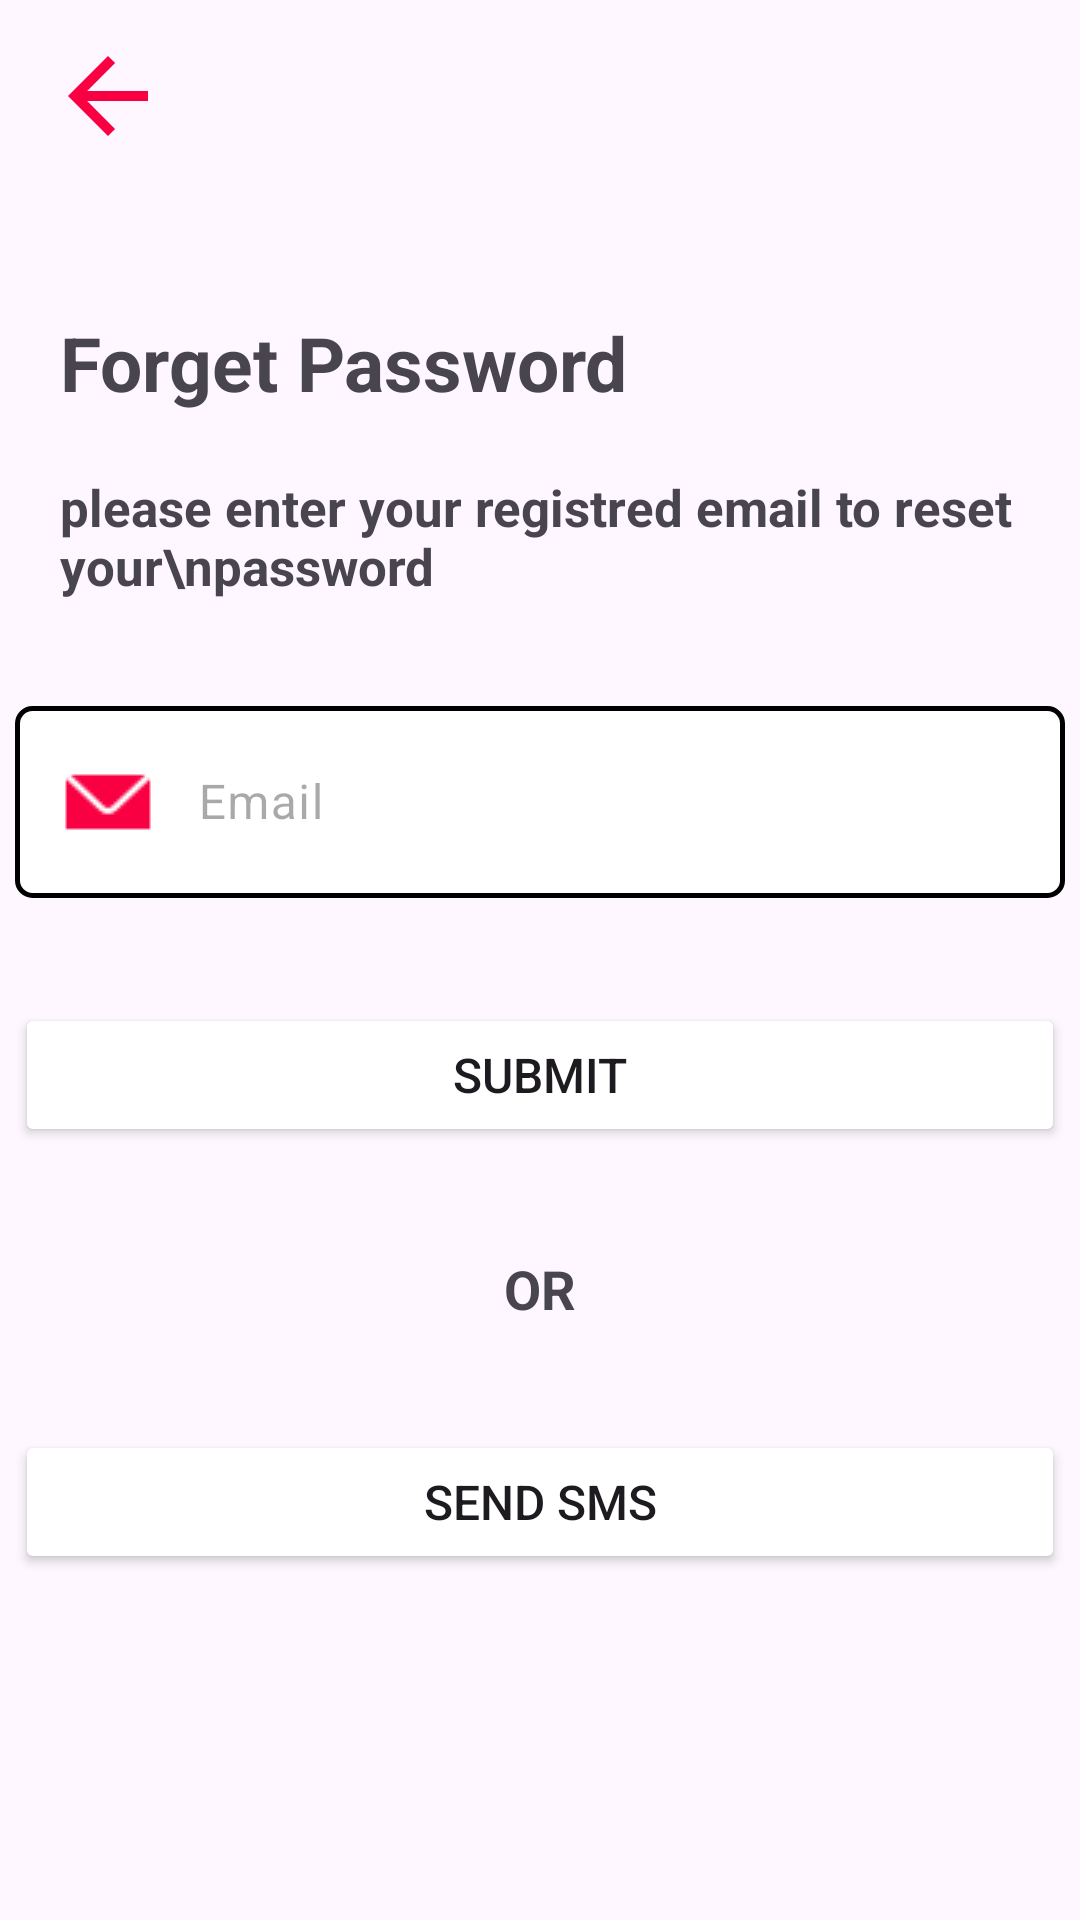

Named icons in this screenshot (1080*1920) and their bounding boxes, Rect(x1, y1, x2, y2):
arrow back: Rect(68, 56, 148, 136)
